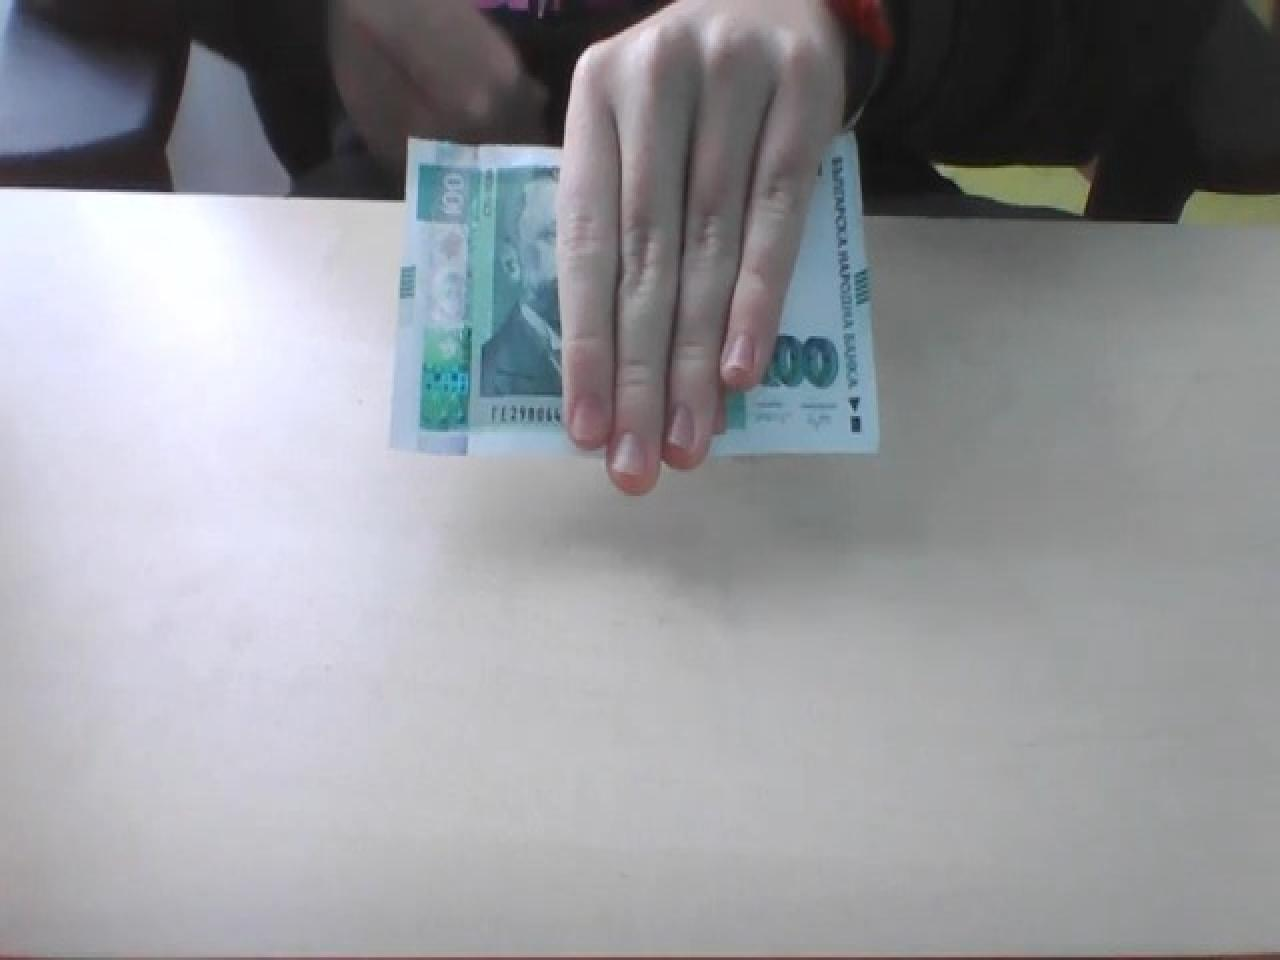100leva: (388, 128, 882, 461)
